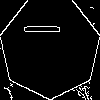I: (25, 22, 69, 36)
